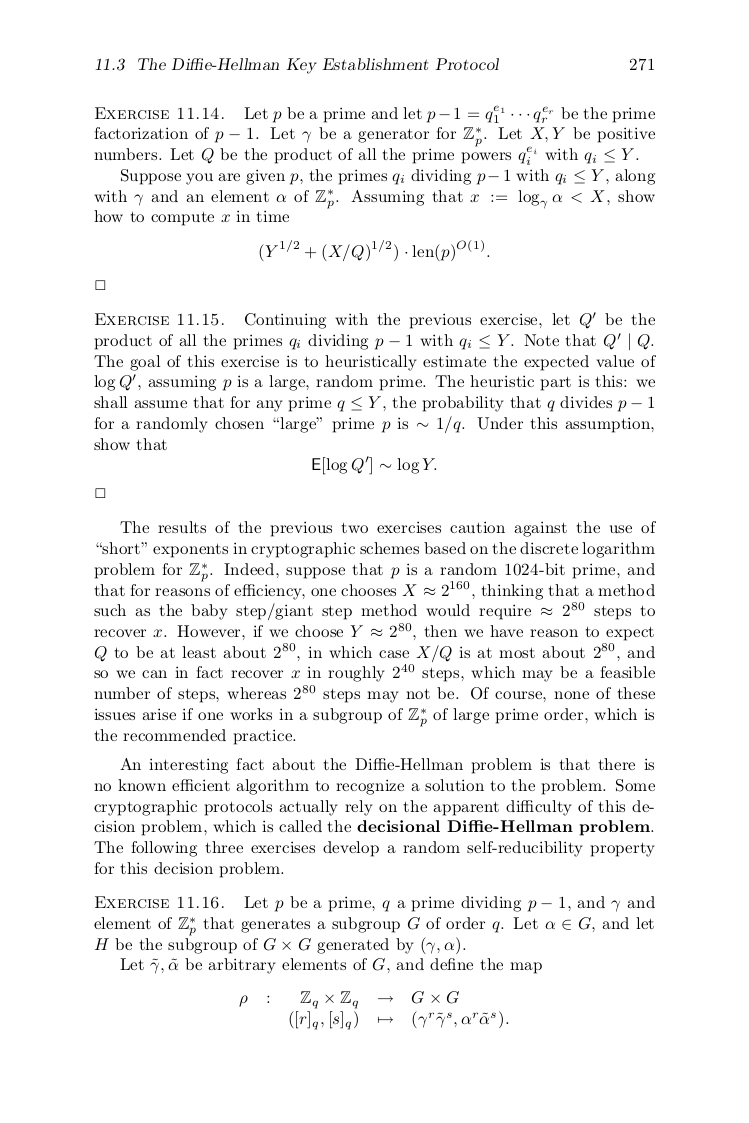formula: (239, 990, 508, 1030), (259, 239, 489, 262), (312, 455, 436, 475)
